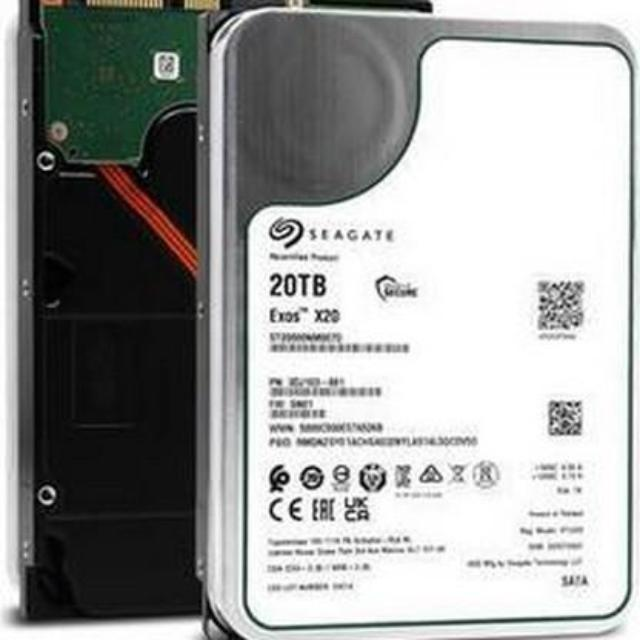DISK: (0, 0, 458, 623), (203, 0, 640, 640)
